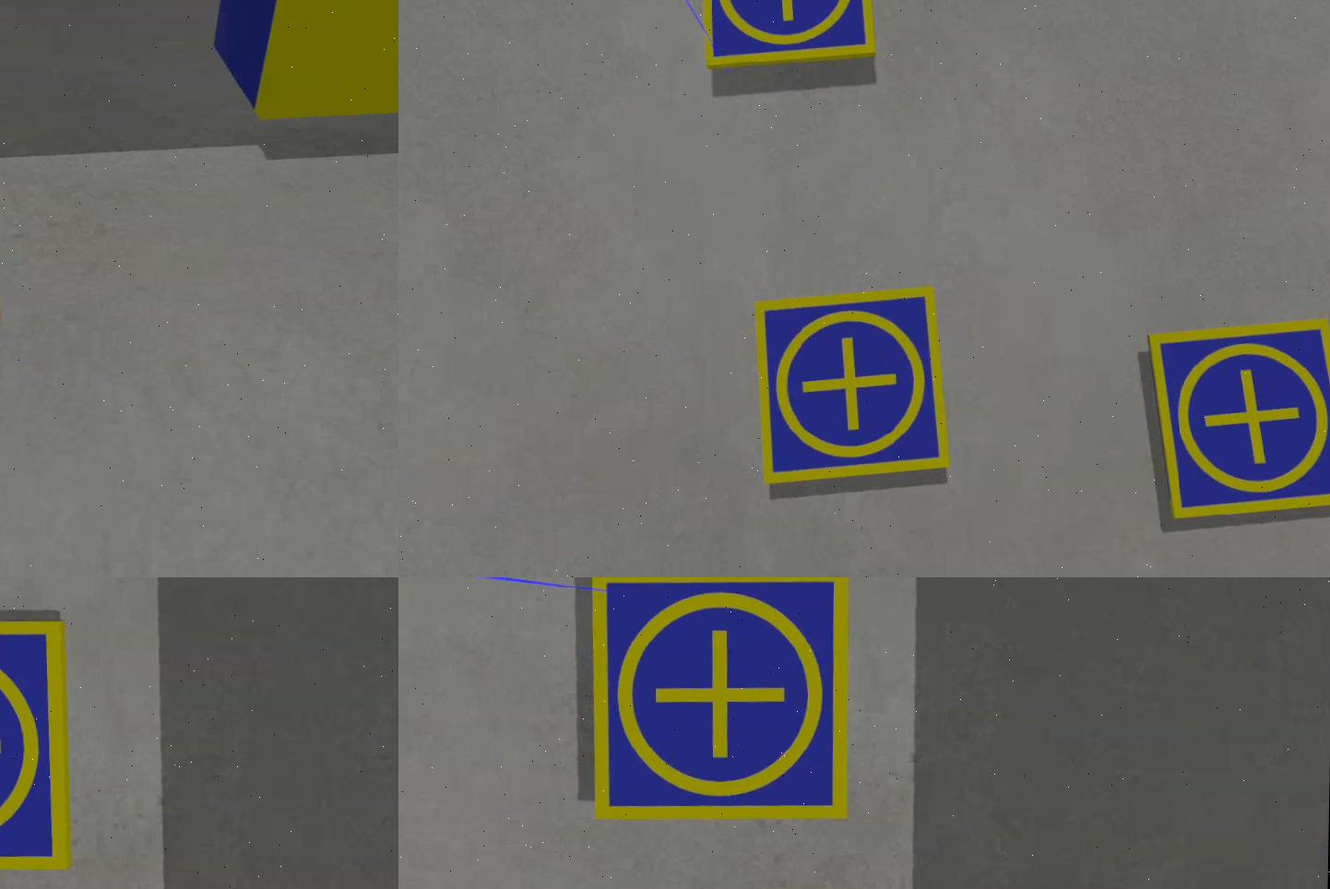small_base: (583, 578, 857, 828), (752, 283, 958, 491), (1144, 316, 1330, 524), (1, 615, 77, 879), (696, 1, 883, 74)
